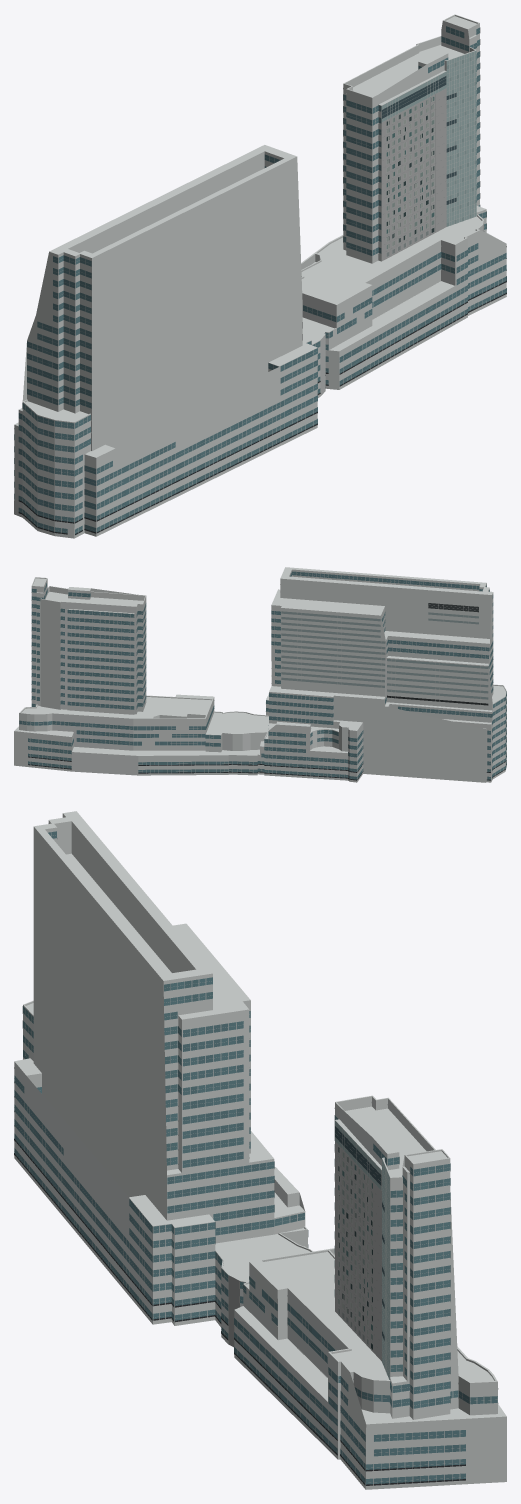
Rendered from mark-city.glb.
3 views of the same model, one above another, from view 1: azimuth 30°, elevation 25°; view 2: azimuth 150°, elevation 25°; view 3: azimuth 270°, elevation 25° (orthographic). The views are drawn at different scales.
Parts seen in each view (by area): view 1: mark-city_wall, mark-city_roof, mark-city_glass2, mark-city_glass0, mark-city_glass1, mark-city_spandrel, mark-city_east_hotel_wall, mark-city_east_curtain_pale, mark-city_east_window_frame, d24_exact_mark-city_0, mark-city_sign_housing, mark-city_east_curtain_closed (+2 smaller); view 2: mark-city_wall, mark-city_roof, d24_exact_mark-city_1, mark-city_glass1, mark-city_glass2, mark-city_spandrel, mark-city_glass0, d24_exact_mark-city_0, mark-city_sign_housing, mark-city_west_cap_dark_opaque, mark-city_west_lower_dark_opaque; view 3: mark-city_wall, mark-city_roof, mark-city_glass2, mark-city_glass1, mark-city_glass0, mark-city_spandrel, mark-city_east_hotel_wall, d24_exact_mark-city_0, mark-city_east_curtain_pale, mark-city_sign_housing, mark-city_east_window_frame, mark-city_east_curtain_closed.
Boxes of the visible parts, x1,y1,x2,y2 form: mark-city_wall: (14,15,506,538); mark-city_roof: (14,14,500,457); mark-city_glass2: (14,29,506,534); mark-city_glass0: (14,27,506,533); mark-city_glass1: (14,26,502,531); mark-city_spandrel: (14,33,506,536); mark-city_east_hotel_wall: (381,88,446,261); mark-city_east_curtain_pale: (381,50,476,225); mark-city_east_window_frame: (382,52,476,257); d24_exact_mark-city_0: (19,27,506,535); mark-city_sign_housing: (18,281,506,534); mark-city_east_curtain_closed: (386,97,434,248); mark-city_wall: (14,569,506,782); mark-city_roof: (14,567,506,755); d24_exact_mark-city_1: (281,611,488,699); mark-city_glass1: (23,572,506,780); mark-city_glass2: (28,571,506,778); mark-city_spandrel: (19,575,506,781); mark-city_glass0: (19,572,506,779); d24_exact_mark-city_0: (19,572,498,779); mark-city_sign_housing: (28,756,506,780); mark-city_west_cap_dark_opaque: (428,603,478,612); mark-city_west_lower_dark_opaque: (387,695,488,705); mark-city_wall: (14,813,506,1489); mark-city_roof: (14,811,506,1424); mark-city_glass2: (14,977,465,1484); mark-city_glass1: (14,831,497,1483); mark-city_glass0: (14,979,490,1485); mark-city_spandrel: (14,838,498,1487); mark-city_east_hotel_wall: (335,1141,381,1361); d24_exact_mark-city_0: (14,835,497,1484); mark-city_east_curtain_pale: (334,1120,389,1379); mark-city_sign_housing: (14,1139,465,1485); mark-city_east_window_frame: (335,1123,389,1372); mark-city_east_curtain_closed: (338,1148,372,1335).
Size of the model in its own units: 256 by 112 by 150.
